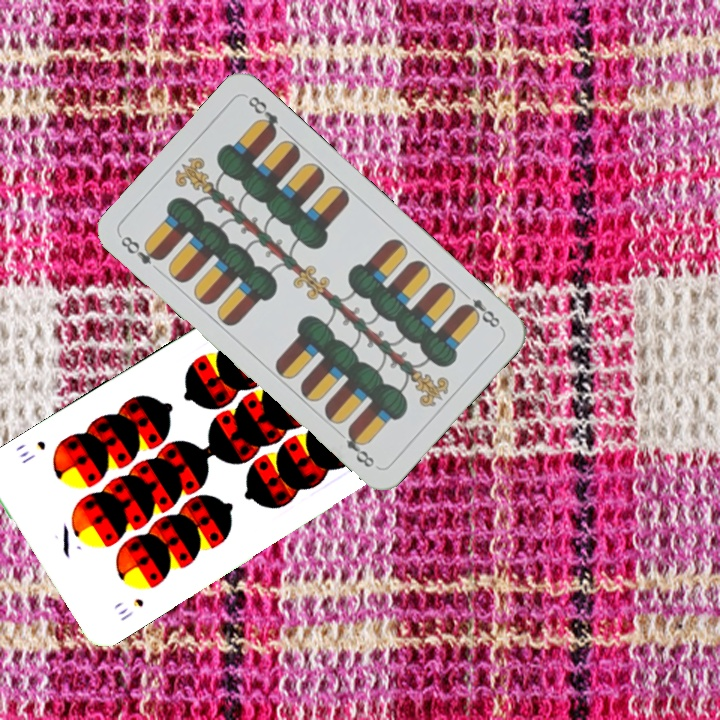E8: (457, 287, 503, 331), (116, 231, 166, 268)
S10: (114, 594, 147, 624)
